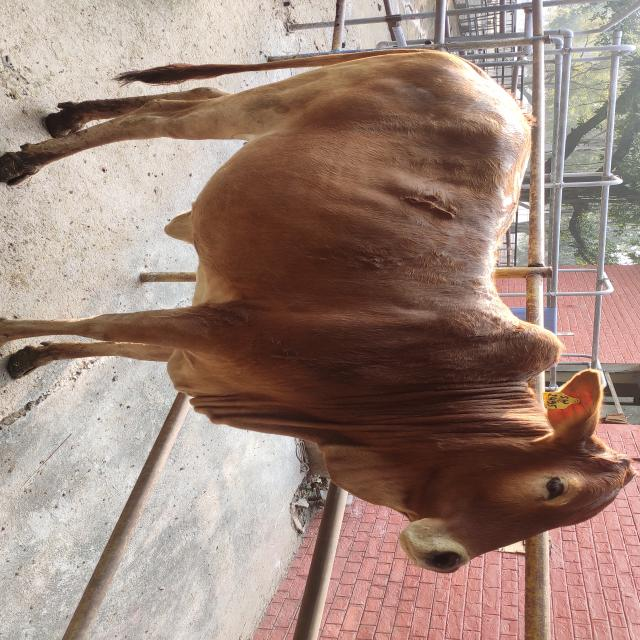cow: (1, 47, 635, 573)
hump: (505, 310, 569, 388)
